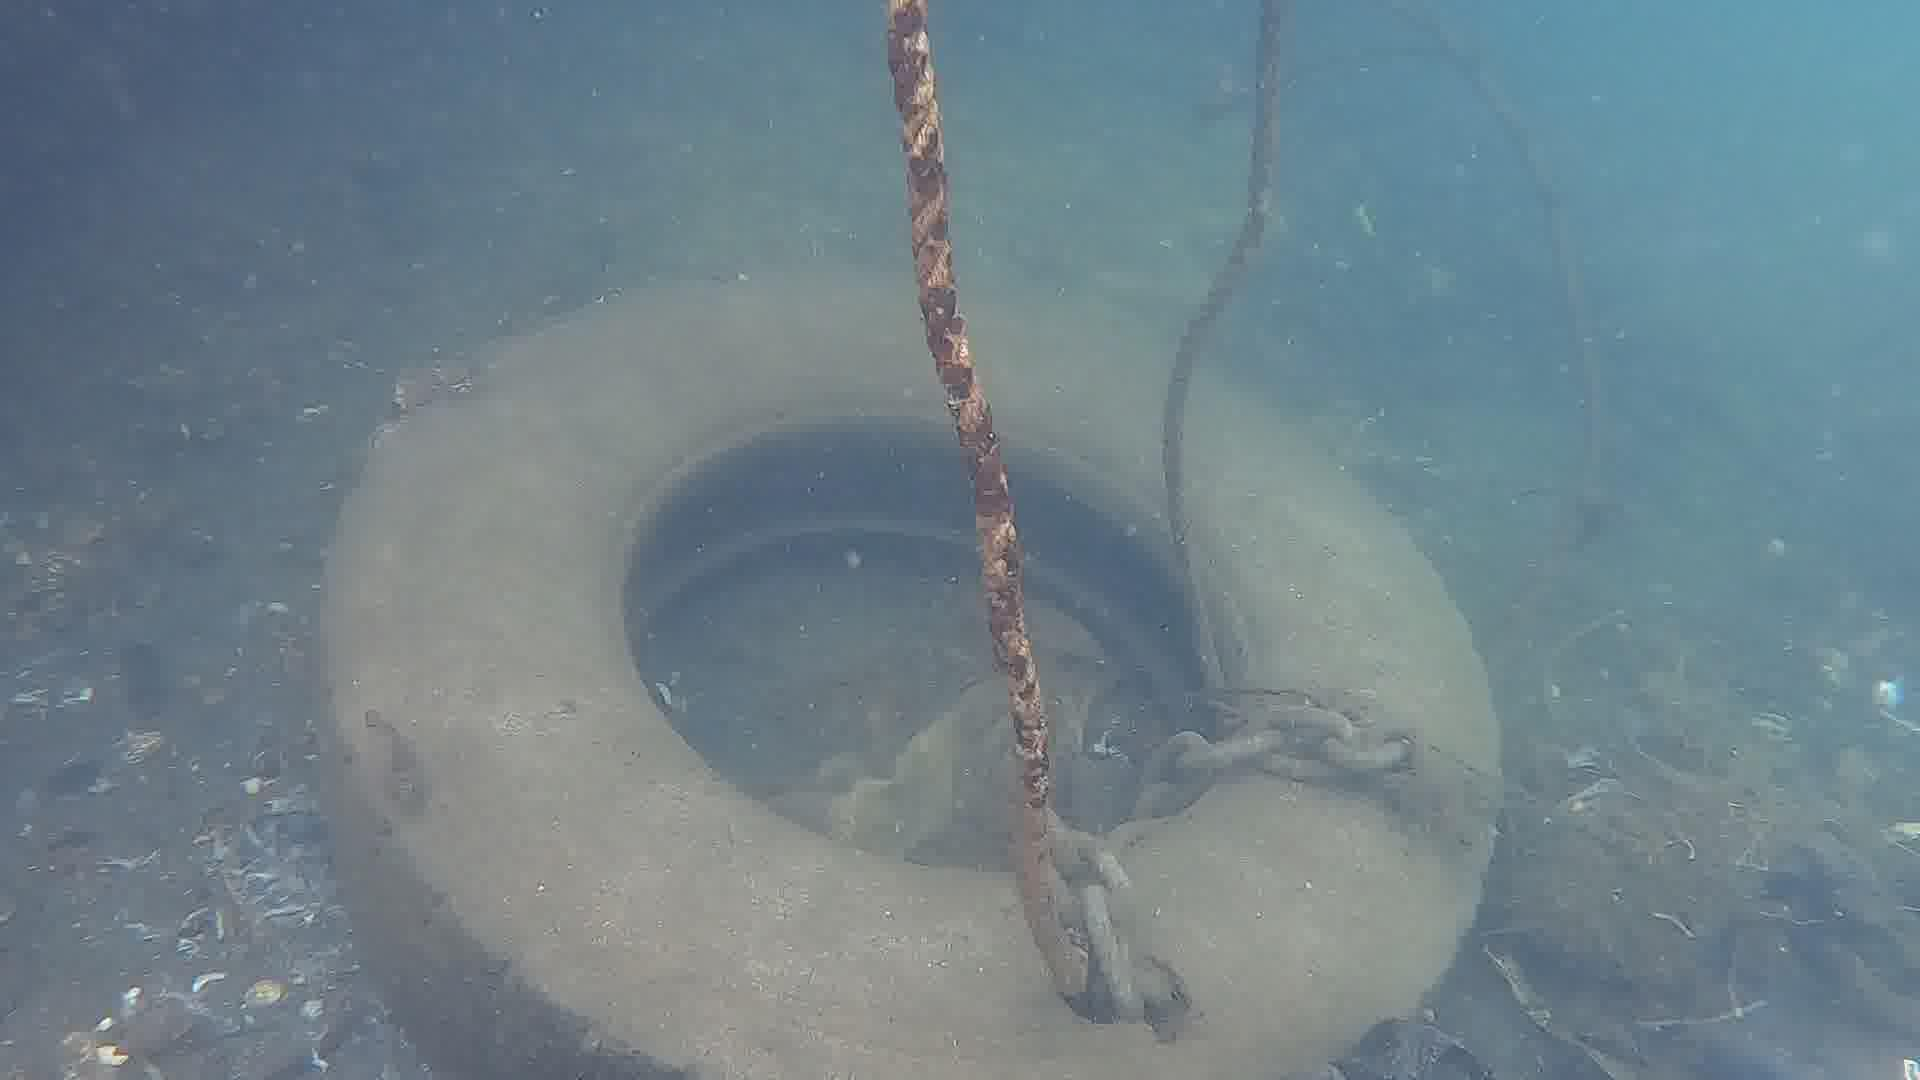rope: (884, 0, 1080, 996), (1158, 0, 1280, 686)
tire: (310, 264, 1506, 1080)
